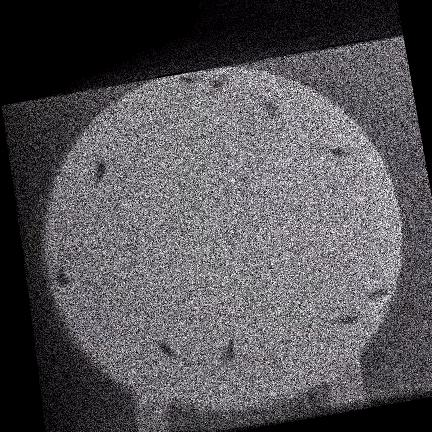fly: (208, 71, 228, 92), (156, 339, 177, 358), (93, 158, 105, 183), (367, 285, 388, 299), (223, 338, 235, 362), (55, 267, 71, 285), (324, 145, 350, 156), (263, 98, 277, 118), (178, 73, 201, 84), (333, 314, 355, 325)
